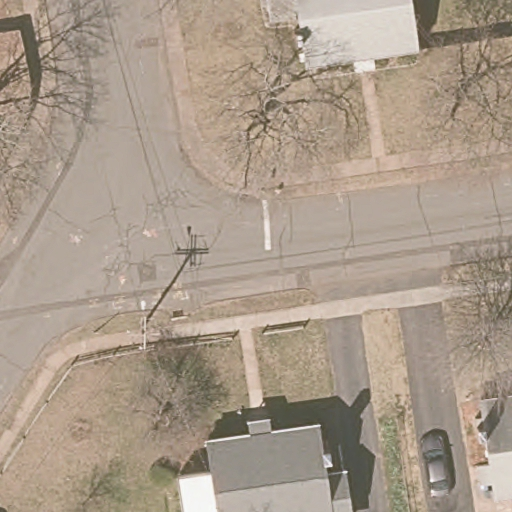DT: (129, 304, 160, 352)
